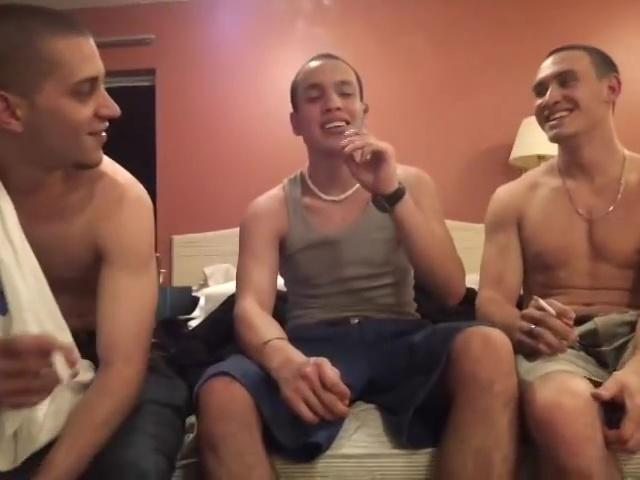cigarette: (43, 343, 74, 390), (533, 294, 561, 318)
